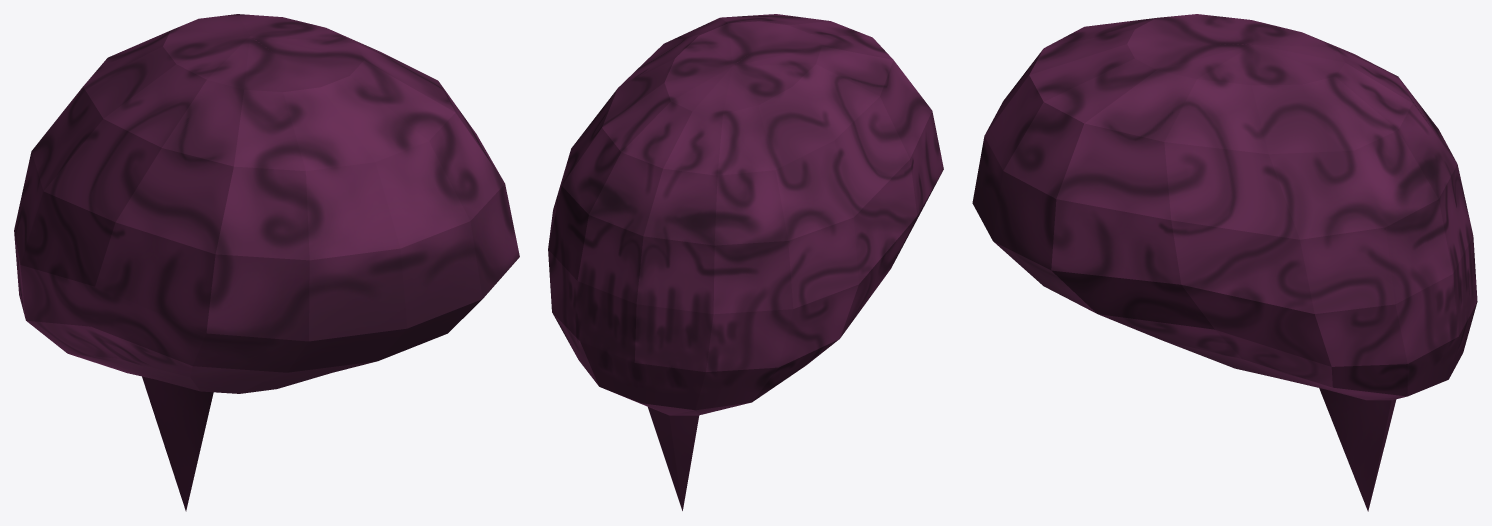
The model's file is wisdom.fbx.
3 views of the same model, side by side, from view 1: azimuth 30°, elevation 25°; view 2: azimuth 150°, elevation 25°; view 3: azimuth 270°, elevation 25° (orthographic). The views are drawn at different scales.
Visible parts, largest first — view 1: Sphere; view 2: Sphere; view 3: Sphere.
Part boxes in pixels (box(x1,y1,x2,y2)): Sphere: box(14, 14, 519, 511); Sphere: box(548, 14, 943, 510); Sphere: box(972, 14, 1477, 511).
Bounding box in the file's own units: 195 × 249 × 244.
1 material, 1 textured.
